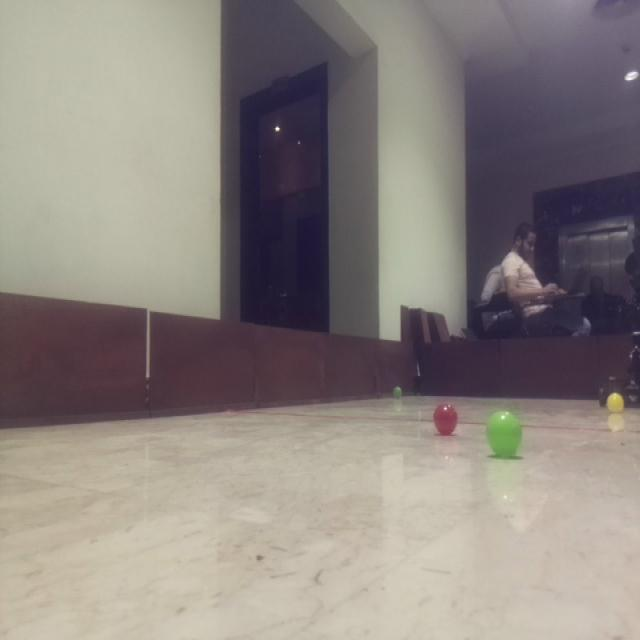ball: (483, 404, 527, 462), (429, 400, 462, 439), (604, 388, 628, 420), (388, 377, 406, 403)
